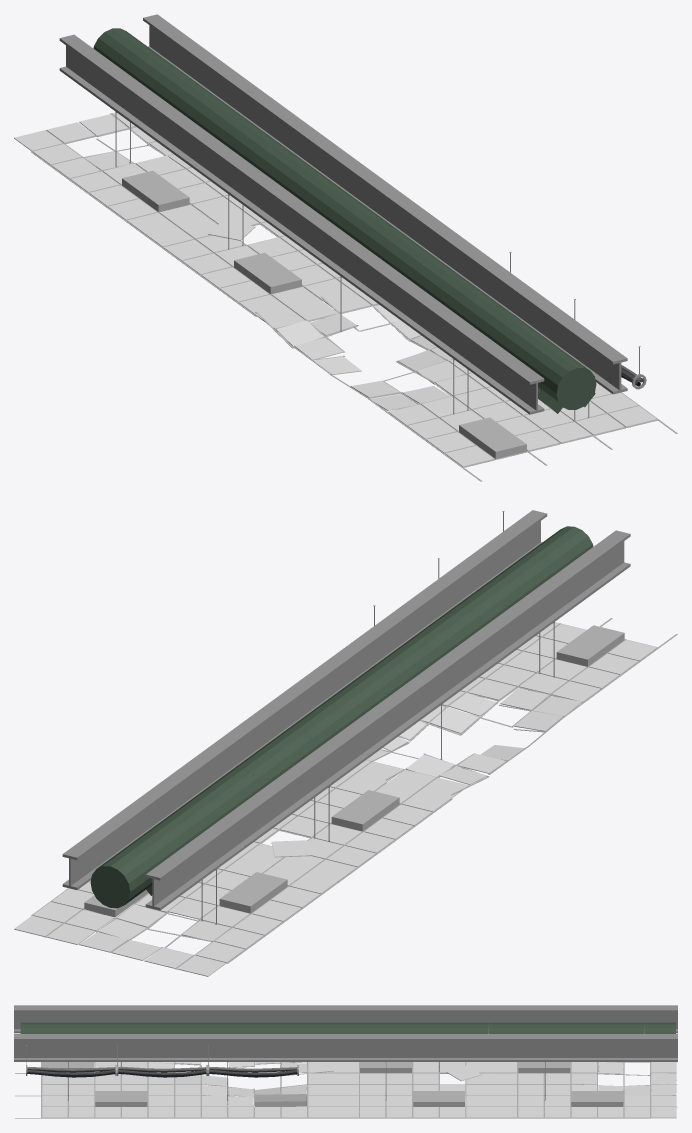
The model's file is longHallwayPartiallyDestroyed.fbx.
3 views of the same model, one above another, from view 1: azimuth 30°, elevation 25°; view 2: azimuth 150°, elevation 25°; view 3: azimuth 270°, elevation 25° (orthographic). The views are drawn at different scales.
Parts seen in each view (by area): view 1: Plane.274; view 2: Plane.274; view 3: Plane.274.
Part boxes in pixels (x1=…): Plane.274: x1=14, y1=14, x2=677, y2=481; Plane.274: x1=14, y1=510, x2=677, y2=976; Plane.274: x1=14, y1=1005, x2=677, y2=1118.
Bounding box in the file's own units: 1274 × 597 × 5244.
